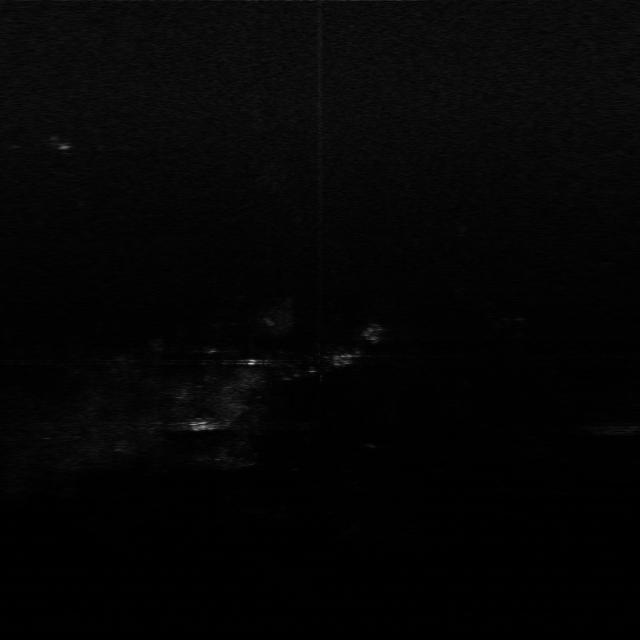rov: (184, 417, 222, 434)
